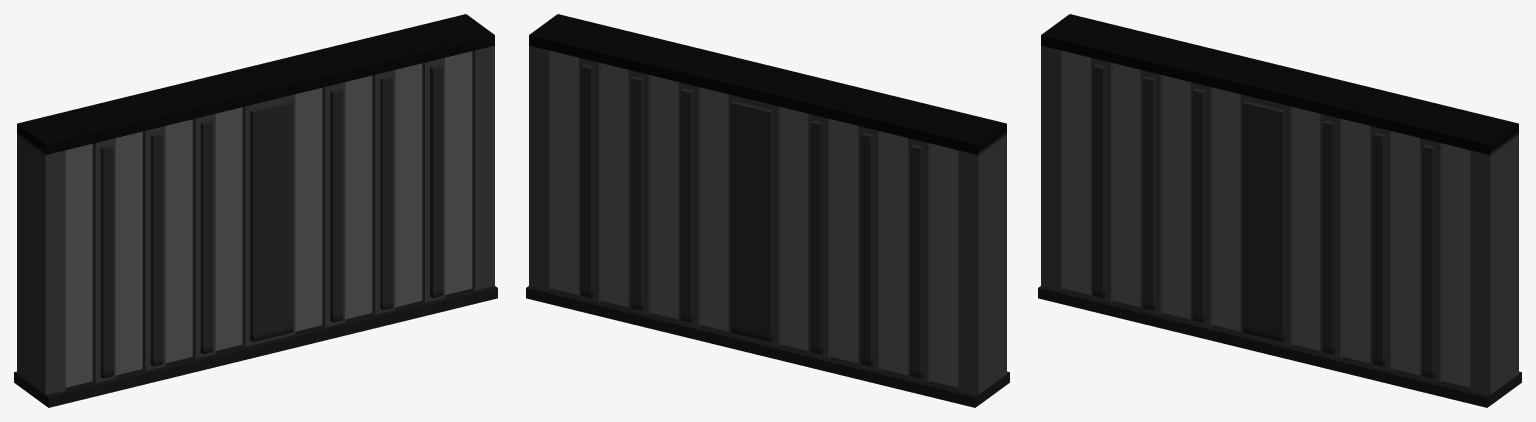
File: Wall-Stone-Model-11.fbx
3 views of the same model, side by side, from view 1: azimuth 30°, elevation 25°; view 2: azimuth 150°, elevation 25°; view 3: azimuth 330°, elevation 25° (orthographic).
Parts seen in each view (by area): view 1: Wall-Stone-Model-11; view 2: Wall-Stone-Model-11; view 3: Wall-Stone-Model-11.
Part boxes in pixels (x1,y1,x2,y2): Wall-Stone-Model-11: (14,14,497,407); Wall-Stone-Model-11: (526,14,1009,407); Wall-Stone-Model-11: (1038,14,1521,407).
Bounding box in the file's own units: 90 × 50 × 12.
1 material, 1 textured.
